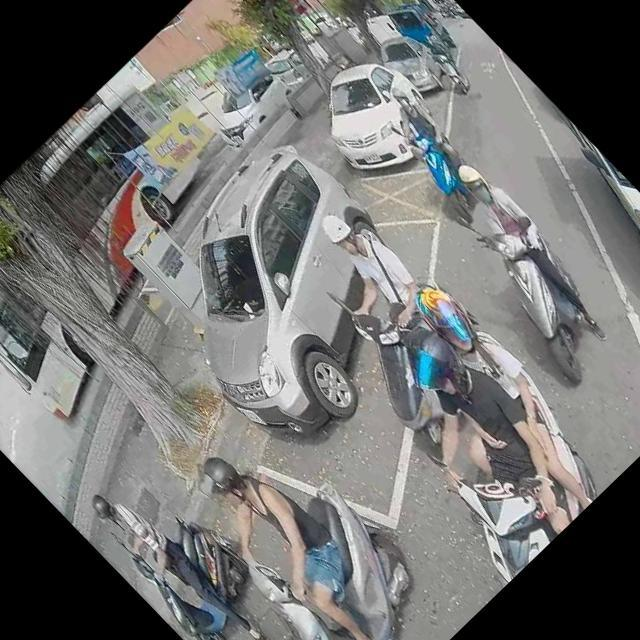person: (353, 268, 626, 544), (346, 314, 602, 572), (167, 427, 417, 640), (432, 148, 628, 348), (77, 471, 273, 640), (280, 192, 444, 359), (366, 76, 479, 192), (421, 32, 448, 59)
